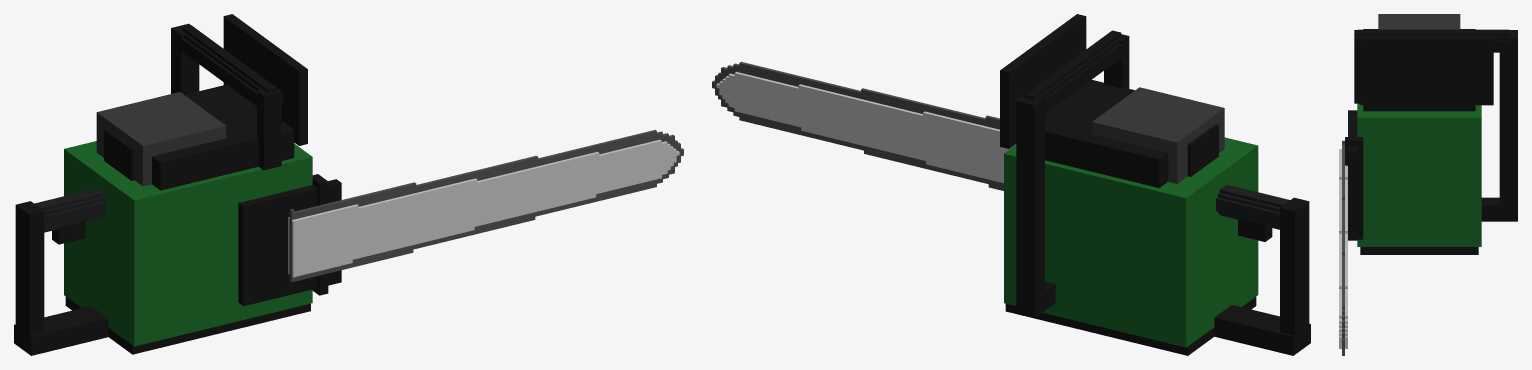
File: elec_chainsaw_off.glb
3 renders of one model, left to right at view 1: azimuth 30°, elevation 25°; view 2: azimuth 150°, elevation 25°; view 3: azimuth 270°, elevation 25°, orthographic. The views are drawn at different scales.
Visible parts, largest first — view 1: elec_chainsaw_off:compound; view 2: elec_chainsaw_off:compound; view 3: elec_chainsaw_off:compound.
Part boxes in pixels (x1,y1,x2,y2): elec_chainsaw_off:compound: (14,14,683,355); elec_chainsaw_off:compound: (712,14,1310,355); elec_chainsaw_off:compound: (1339,14,1517,355).
Size of the model in its own units: 0.832 by 0.312 by 0.236.
